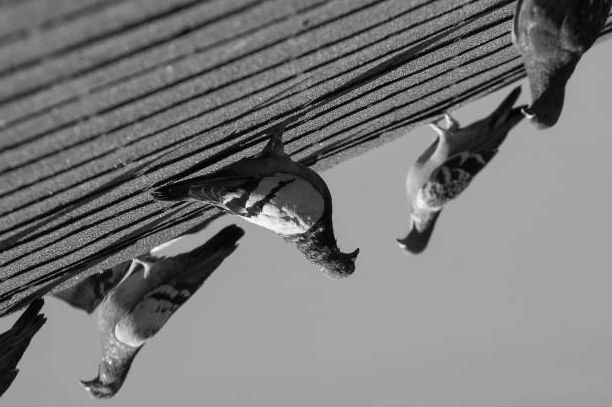Bird: (145, 118, 361, 285), (77, 217, 246, 402), (388, 78, 536, 260), (506, 1, 612, 133)
